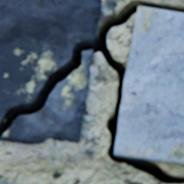brick: (115, 7, 183, 163), (0, 181, 13, 183)
broken_brick: (0, 0, 102, 124), (2, 50, 93, 143)
crack: (0, 1, 183, 183), (47, 134, 51, 140)
